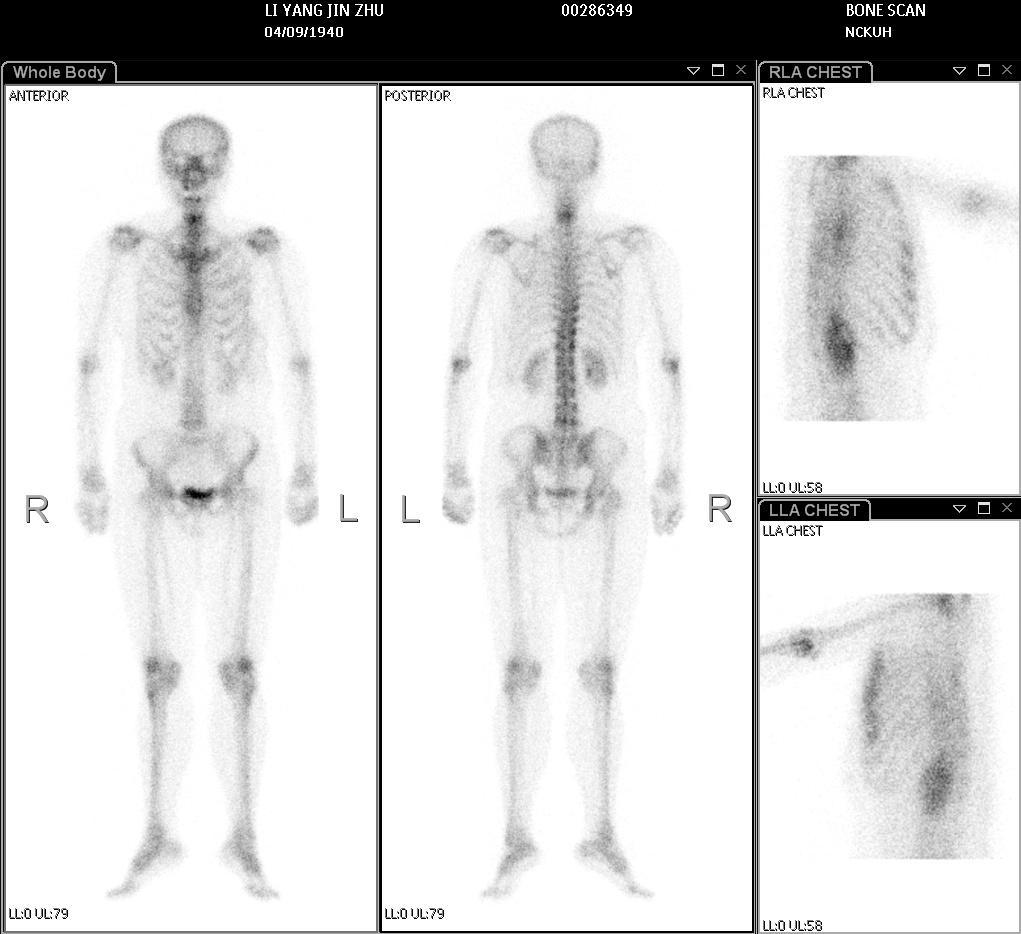person: (4, 84, 755, 934)
